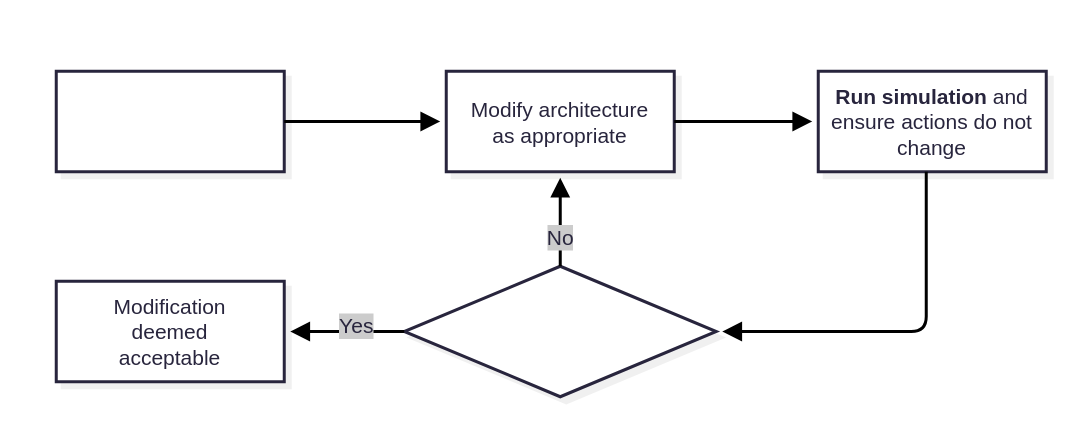
This 1079x429 diagram has some shape labels left out. Each missing label, with the centre of its shape:
"All actions are within ± 1e-6?" belongs at [562,334].
"Collect test scenario" belongs at [172,123].
